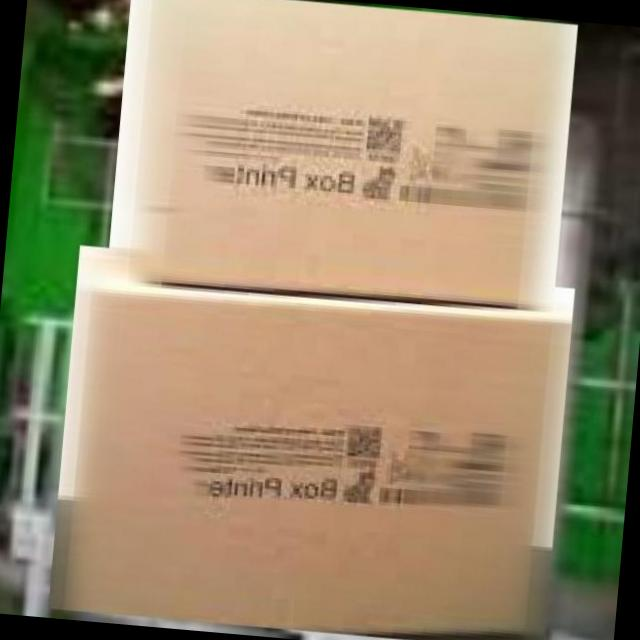box: (37, 239, 582, 640), (98, 0, 583, 321)
